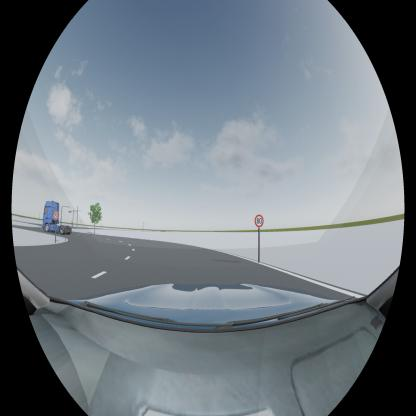Speed Limit 80: (254, 214, 264, 228)
Speed Limit 90: (53, 211, 58, 220)
